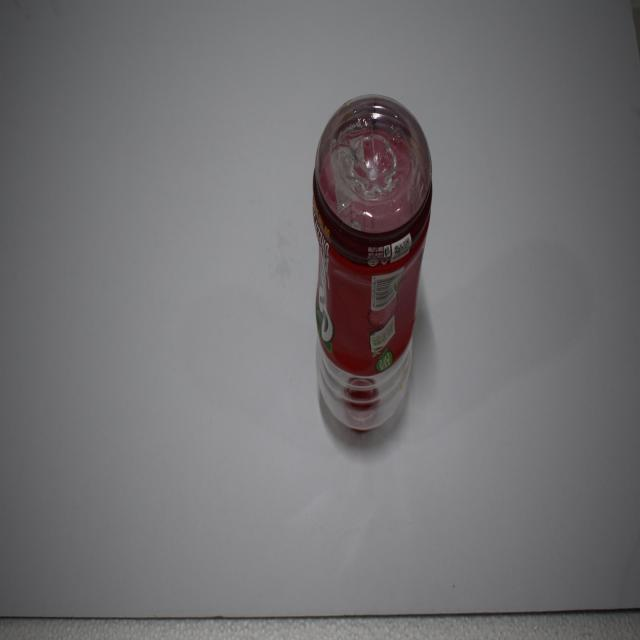bottle: (298, 70, 450, 461)
